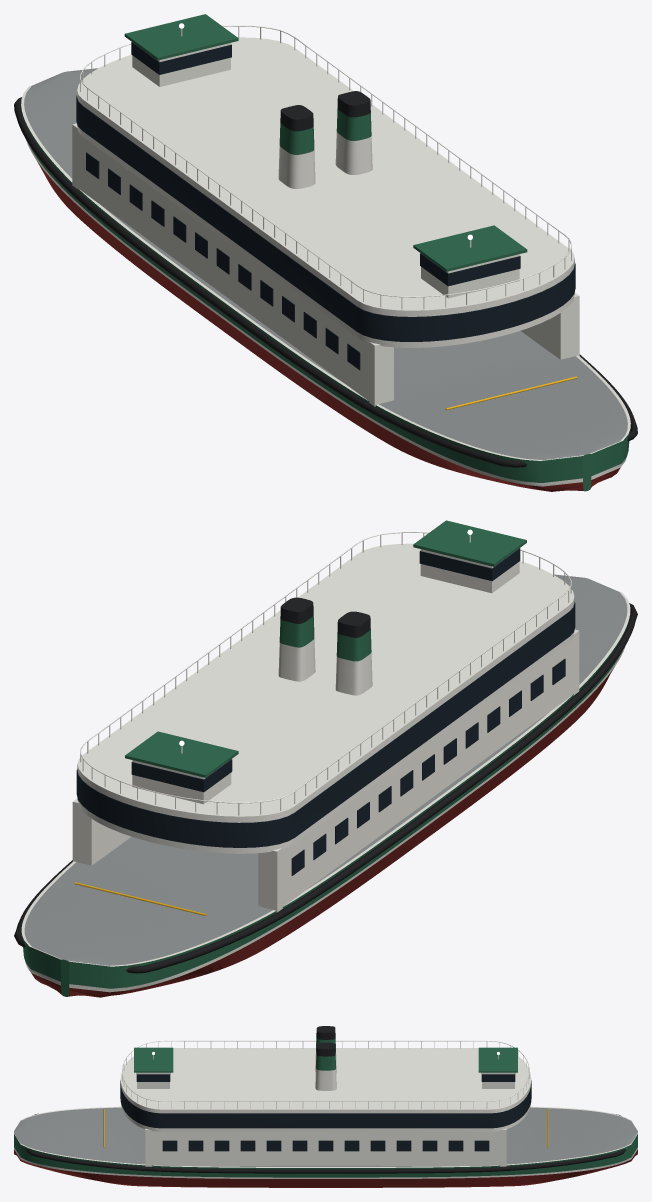
File: double-ended-ferry.glb
3 views of the same model, one above another, from view 1: azimuth 30°, elevation 25°; view 2: azimuth 150°, elevation 25°; view 3: azimuth 270°, elevation 25° (orthographic). The views are drawn at different scales.
Parts seen in each view (by area): view 1: Double_Ended_Ferry; view 2: Double_Ended_Ferry; view 3: Double_Ended_Ferry.
Part boxes in pixels (x1,y1,x2,y2): Double_Ended_Ferry: [14, 14, 637, 491]; Double_Ended_Ferry: [14, 520, 637, 997]; Double_Ended_Ferry: [14, 1026, 637, 1187].
Size of the model in its own units: 19.26 by 17.4 by 76.
Materials: 10 (1 with a texture image).
